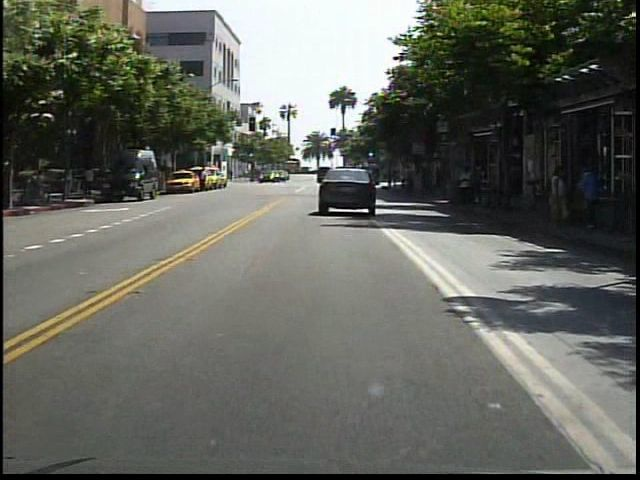person: (456, 165, 479, 213)
